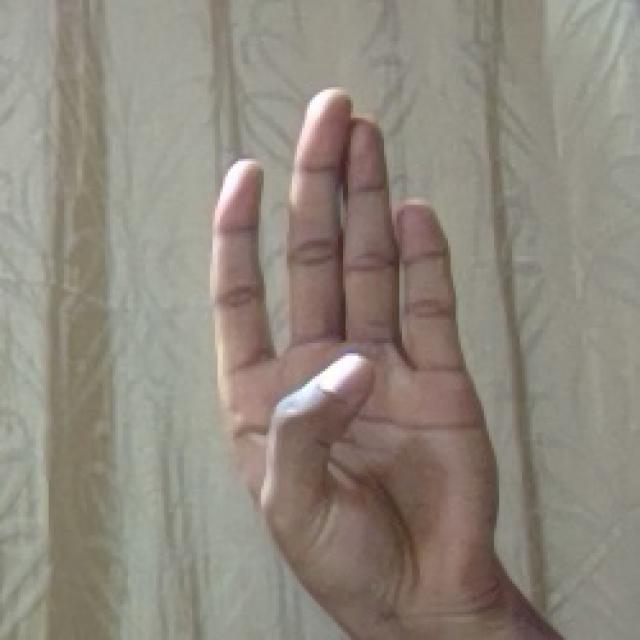Numeric-4: (204, 81, 504, 628)
